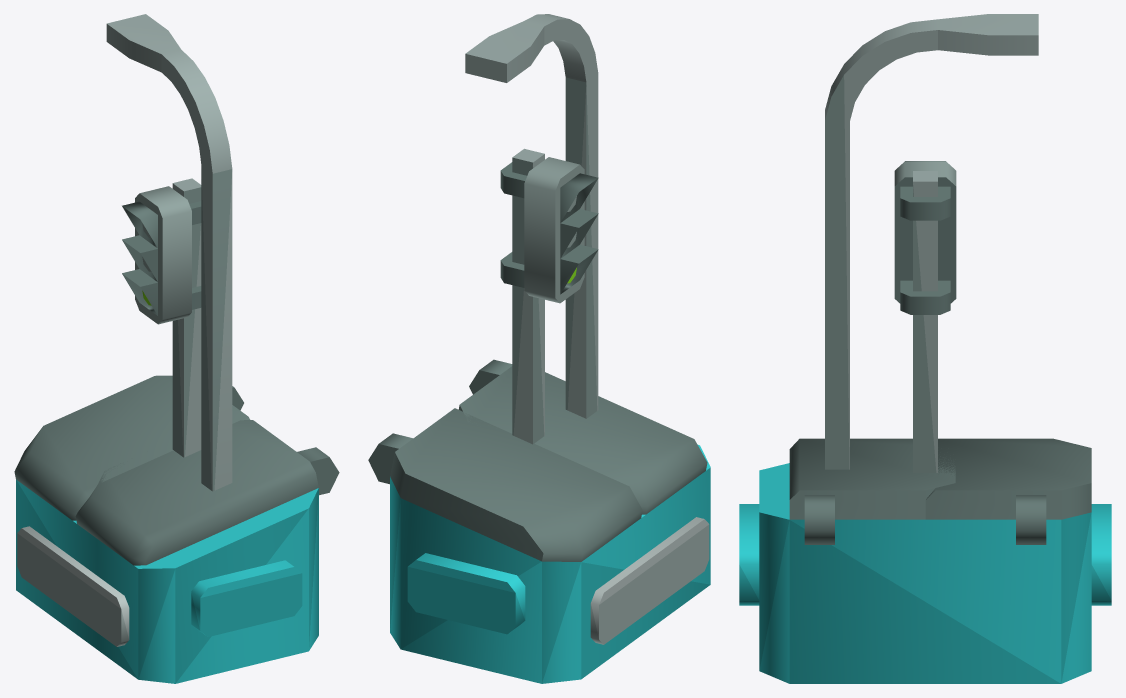
The model's file is meridian-city.glb.
3 views of the same model, side by side, from view 1: azimuth 30°, elevation 25°; view 2: azimuth 150°, elevation 25°; view 3: azimuth 270°, elevation 25° (orthographic). The views are drawn at different scales.
Visible parts, largest first — view 1: dumpster, light-curved, traffic-light; view 2: dumpster, traffic-light, light-curved; view 3: dumpster, light-curved, traffic-light.
Part boxes in pixels (x1,y1,x2,y2): dumpster: [14, 375, 339, 683]; light-curved: [106, 14, 232, 491]; traffic-light: [122, 178, 201, 457]; dumpster: [368, 359, 710, 683]; traffic-light: [500, 148, 598, 444]; light-curved: [465, 14, 598, 418]; dumpster: [739, 438, 1111, 683]; light-curved: [825, 14, 1038, 469]; traffic-light: [894, 161, 956, 472].
Bounding box in the file's own units: 0.275 × 0.675 × 0.37.
